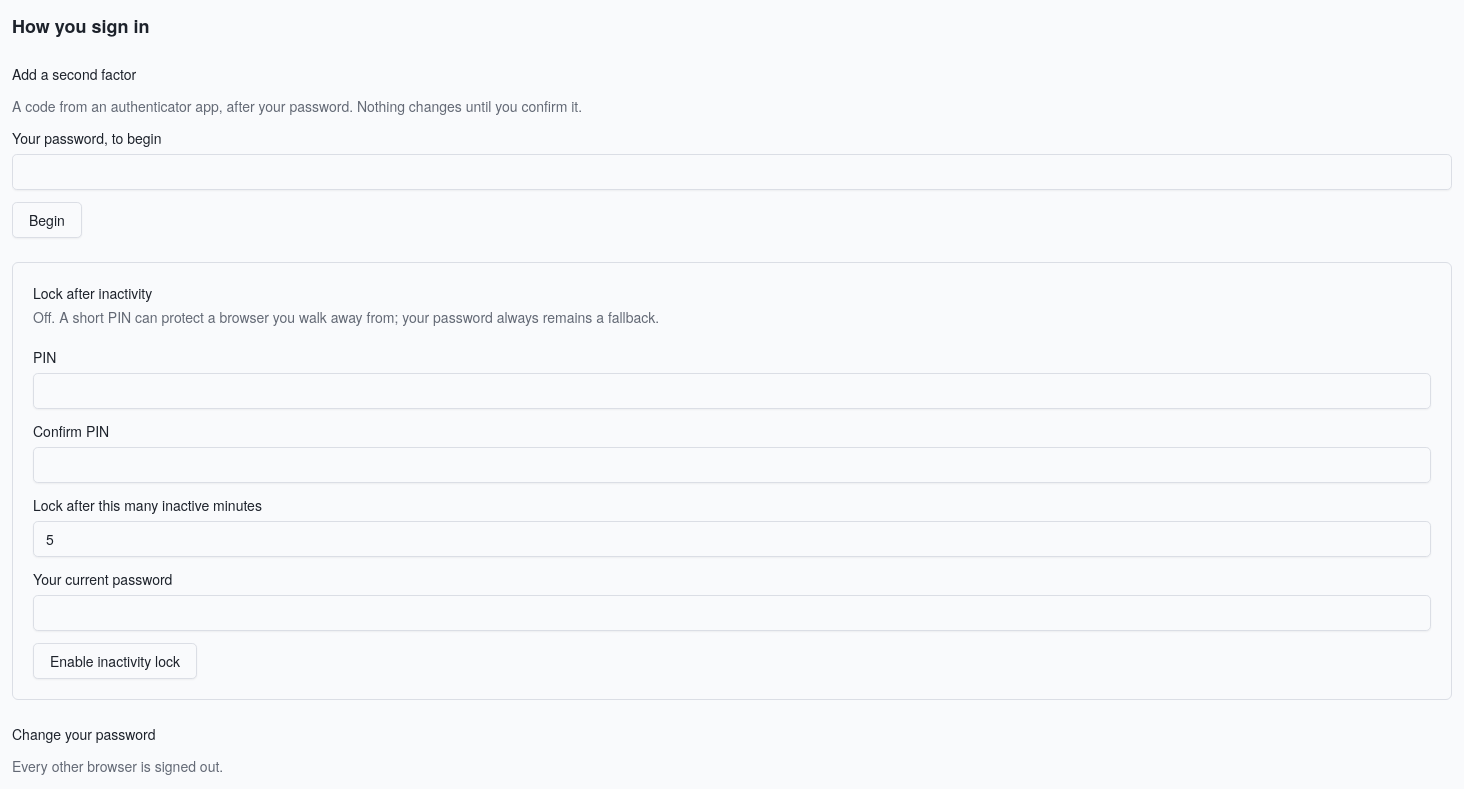
Test case: how the owner signs in › says what the instance refused with, and changes nothing
The width and height of the screenshot is (1464, 789).
Step 1. Type "not it" into the password field labelled "Your password, to begin" → (732, 172), box left=12, top=154, right=1452, bottom=190
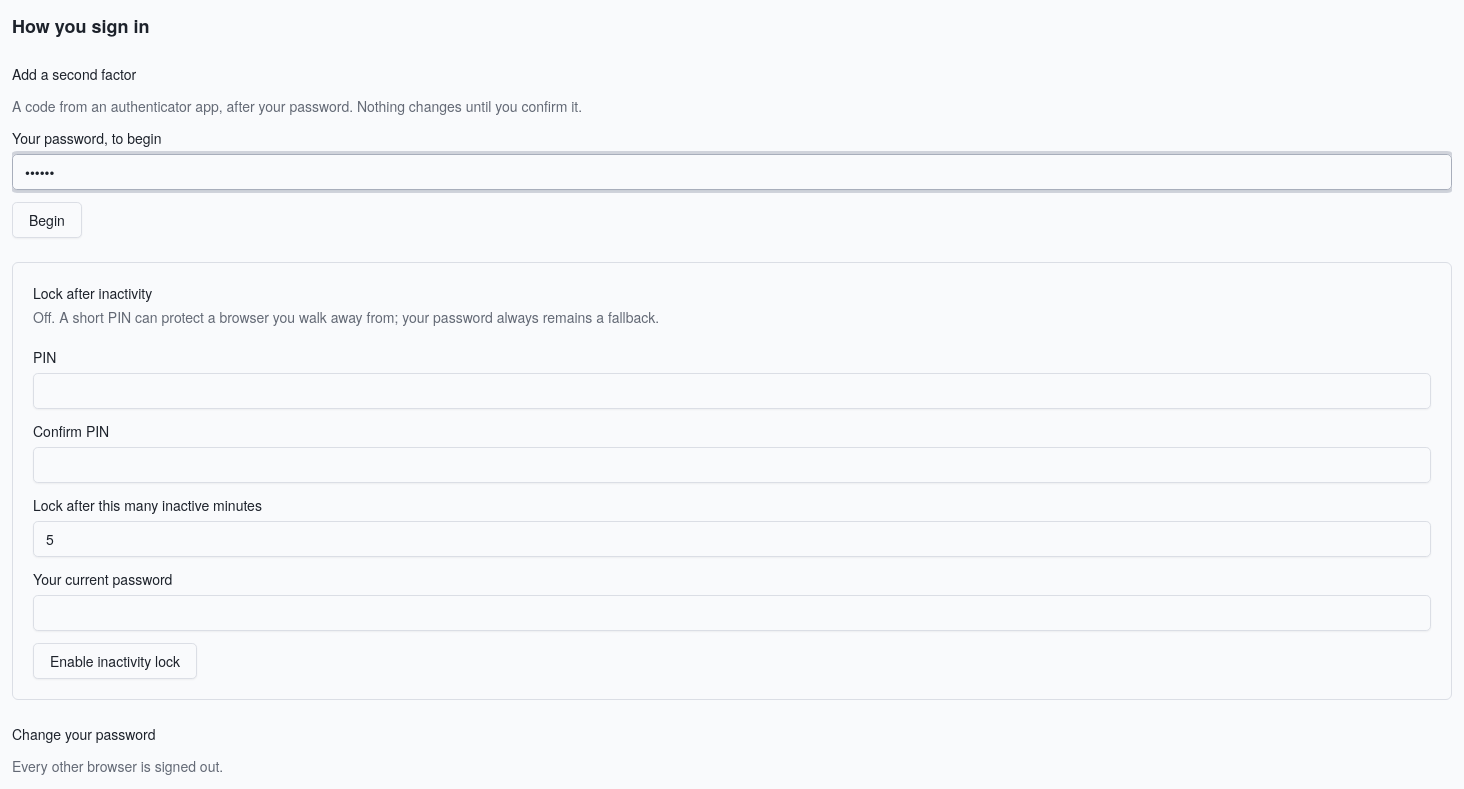
Step 2. Click the button "Begin" → (47, 220), box left=12, top=202, right=82, bottom=238
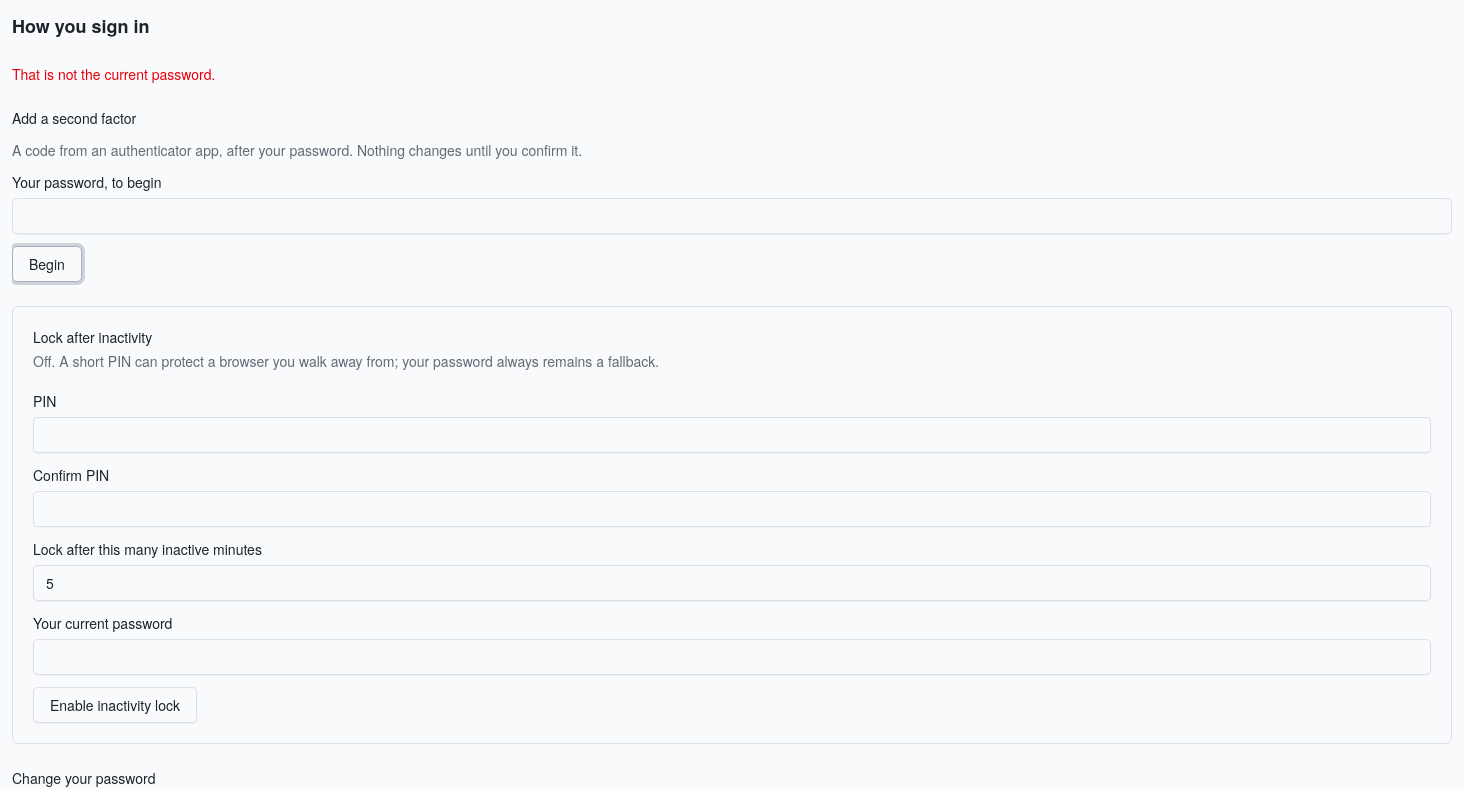
Now the message shows "not the current password", box left=12, top=64, right=215, bottom=84
